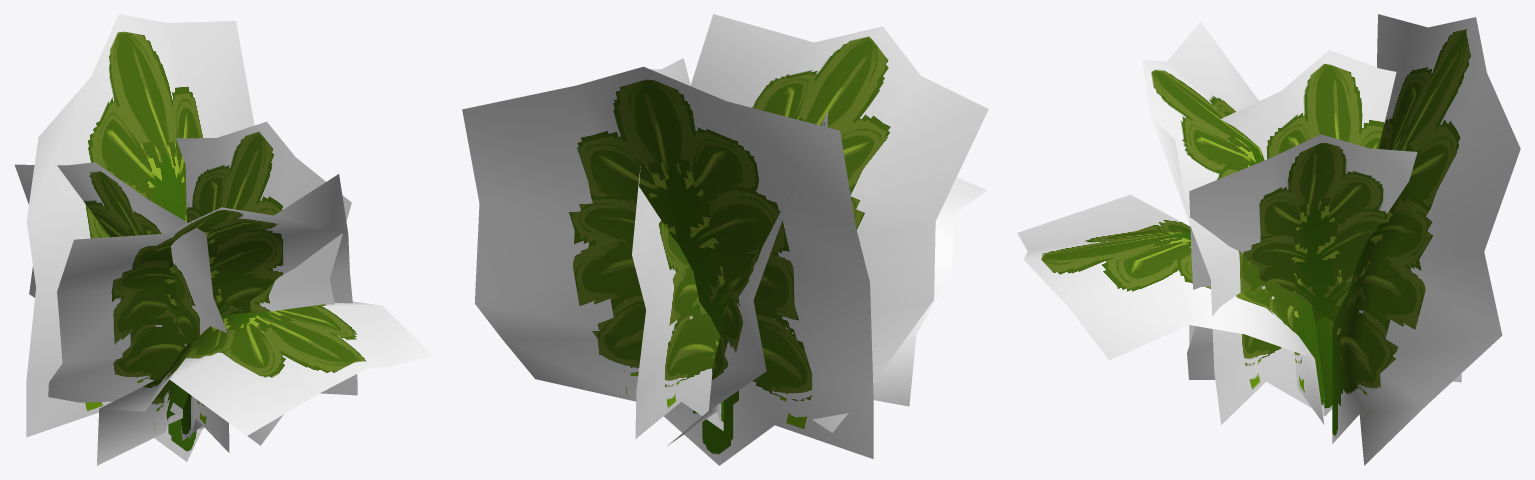
File: Plant_1.fbx
3 renders of one model, left to right at view 1: azimuth 30°, elevation 25°; view 2: azimuth 150°, elevation 25°; view 3: azimuth 270°, elevation 25°, orthographic. The views are drawn at different scales.
Visible parts, largest first — view 1: Plant_1; view 2: Plant_1; view 3: Plant_1.
Boxes of the visible parts, x1,y1,x2,y2 form: Plant_1: (14, 14, 433, 465); Plant_1: (462, 14, 988, 465); Plant_1: (1017, 14, 1520, 465).
Bounding box in the file's own units: 1.09 × 1.3 × 1.39.
